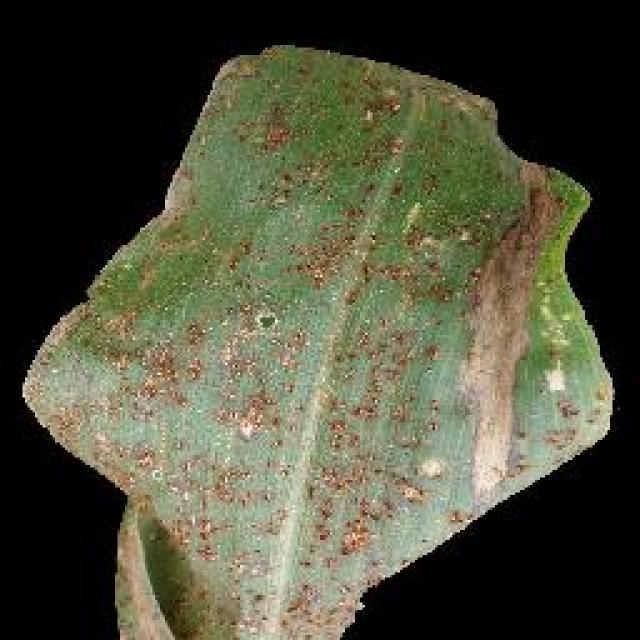Corn Common Rust: (97, 170, 575, 640)
